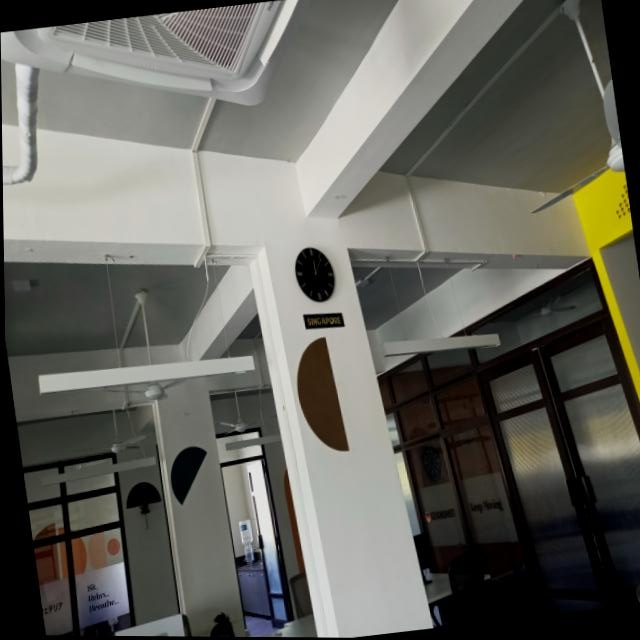fluorescent tube: (35, 341, 268, 411), (375, 320, 510, 367), (31, 450, 161, 492), (220, 427, 284, 463)
